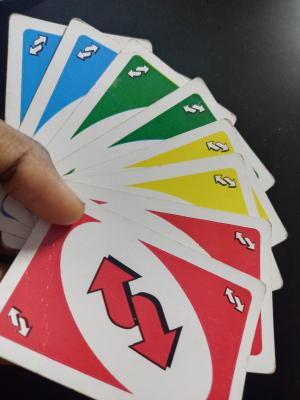reverse: (82, 250, 192, 376), (0, 303, 35, 342), (219, 281, 255, 317), (229, 223, 263, 257), (24, 29, 54, 63), (208, 166, 242, 192), (201, 133, 234, 159), (70, 37, 100, 64), (177, 98, 213, 118), (125, 55, 152, 81)
